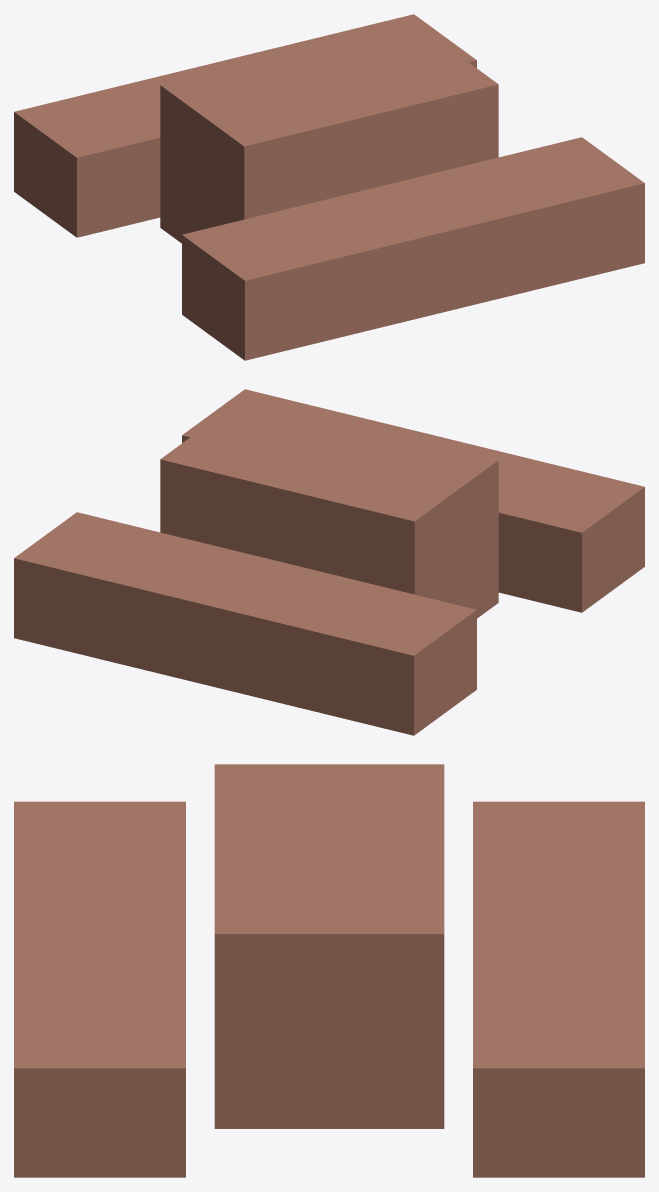
Rendered from mesa_pedra.glb.
The picture shows the model from 3 angles, top to bottom: view 1: azimuth 30°, elevation 25°; view 2: azimuth 150°, elevation 25°; view 3: azimuth 270°, elevation 25°; orthographic projection. The views are drawn at different scales.
Parts seen in each view (by area): view 1: Malha_0; view 2: Malha_0; view 3: Malha_0.
Part boxes in pixels (left/top/right/bottom): Malha_0: left=14, top=14, right=644, bottom=360; Malha_0: left=14, top=389, right=644, bottom=735; Malha_0: left=14, top=764, right=644, bottom=1177.
Bounding box in the file's own units: 2.2 × 0.75 × 2.2.
